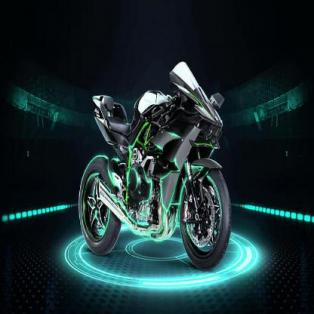Motocicleta: (73, 61, 239, 267)
